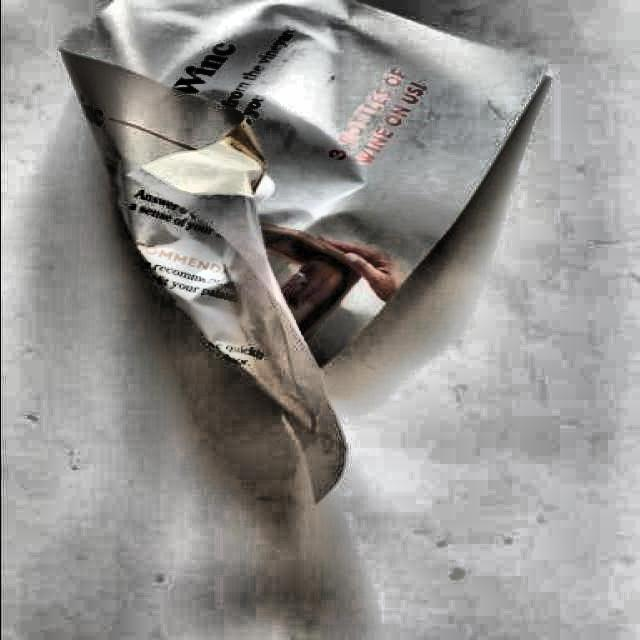cardboard: (59, 0, 550, 502)
